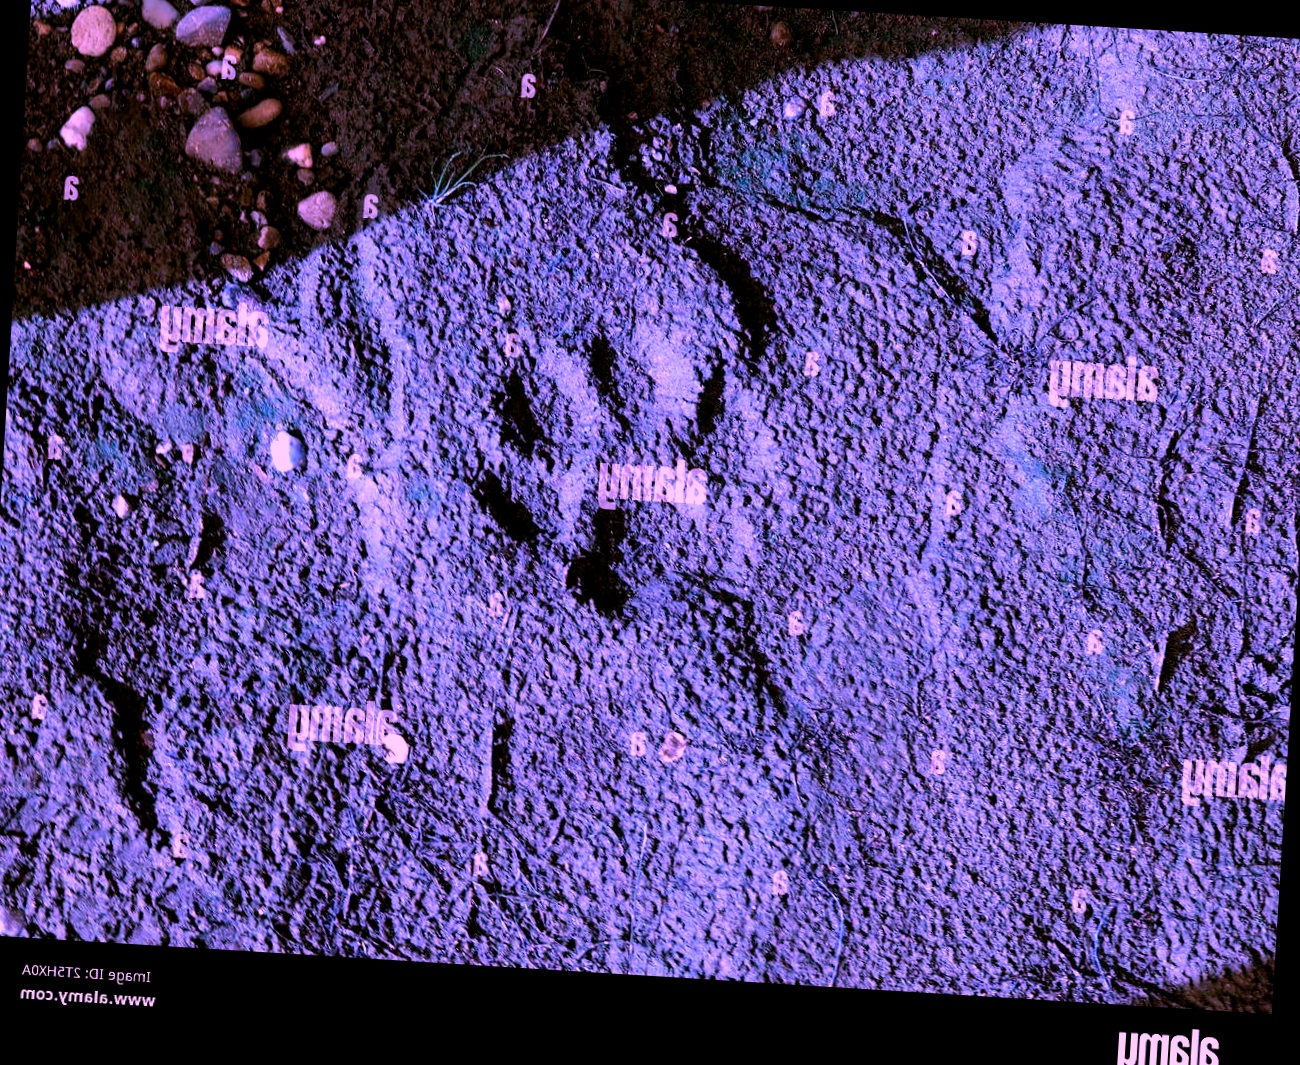loup: (497, 277, 874, 692)
